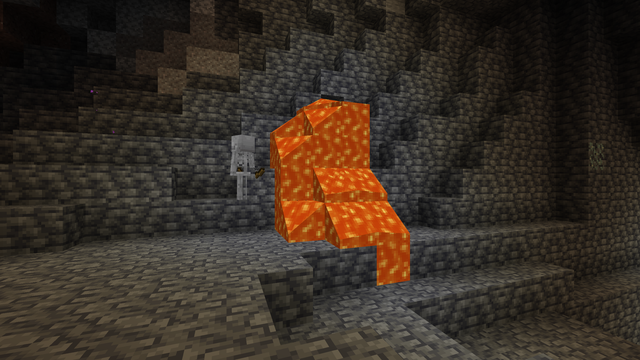squelettes: (232, 134, 252, 199)
